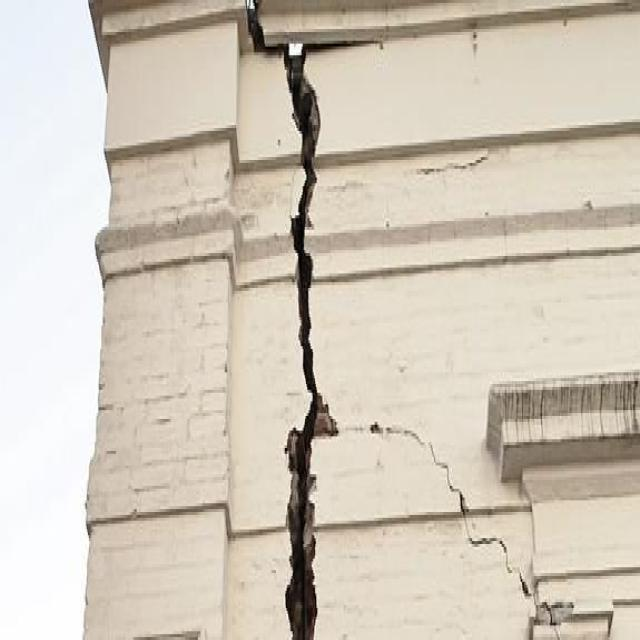crack: (280, 38, 374, 637), (365, 421, 575, 637), (243, 0, 283, 56)
